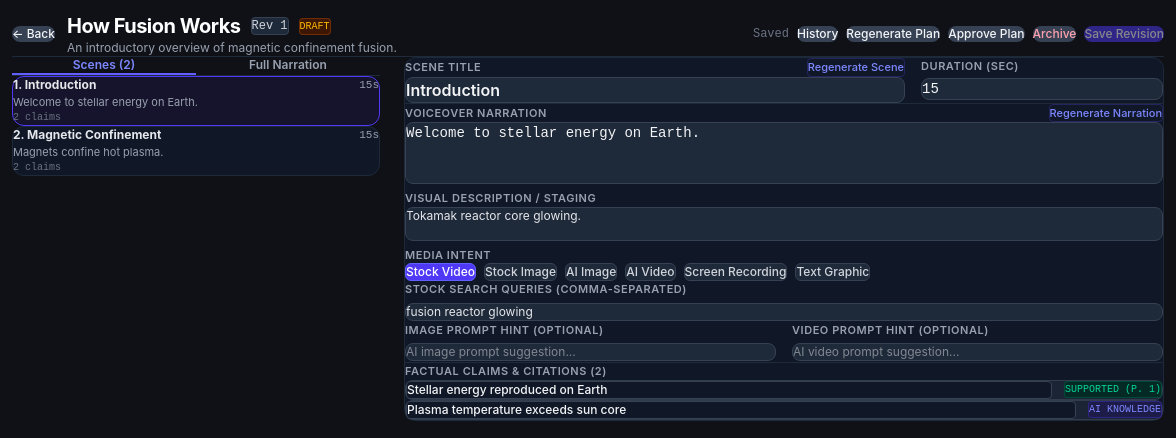
ContentPlanEditor Component › renders read-only full narration view tab
The image size is (1176, 438).
expect the heading "How Fusion Works" is shown: met, box x1=67 y1=12 x2=240 y2=40
What coordinates should you click on to do the following:
click the button "Full Narration"
I would click on:
 (288, 66)
Its box is x1=196 y1=57 x2=380 y2=75.
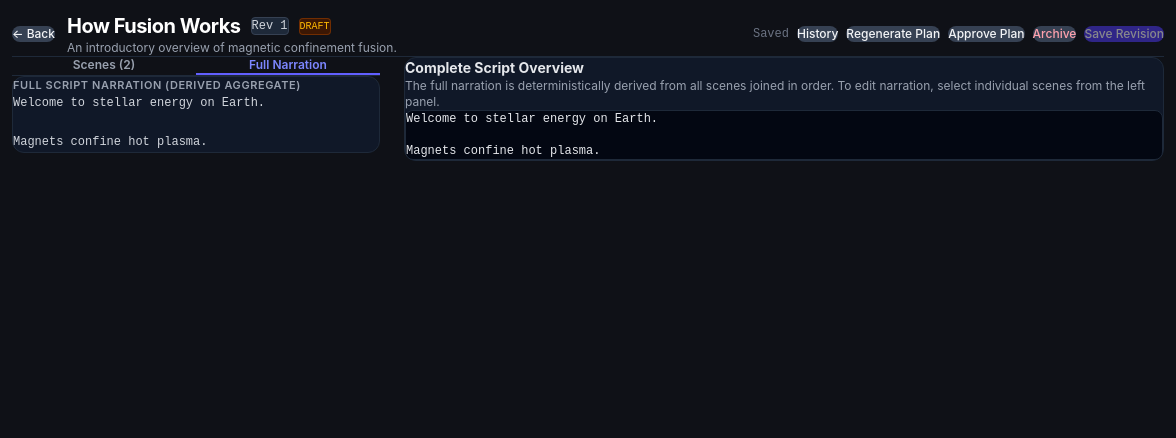
expect the heading "Complete Script Overview" is shown: met, box x1=405 y1=59 x2=584 y2=76
